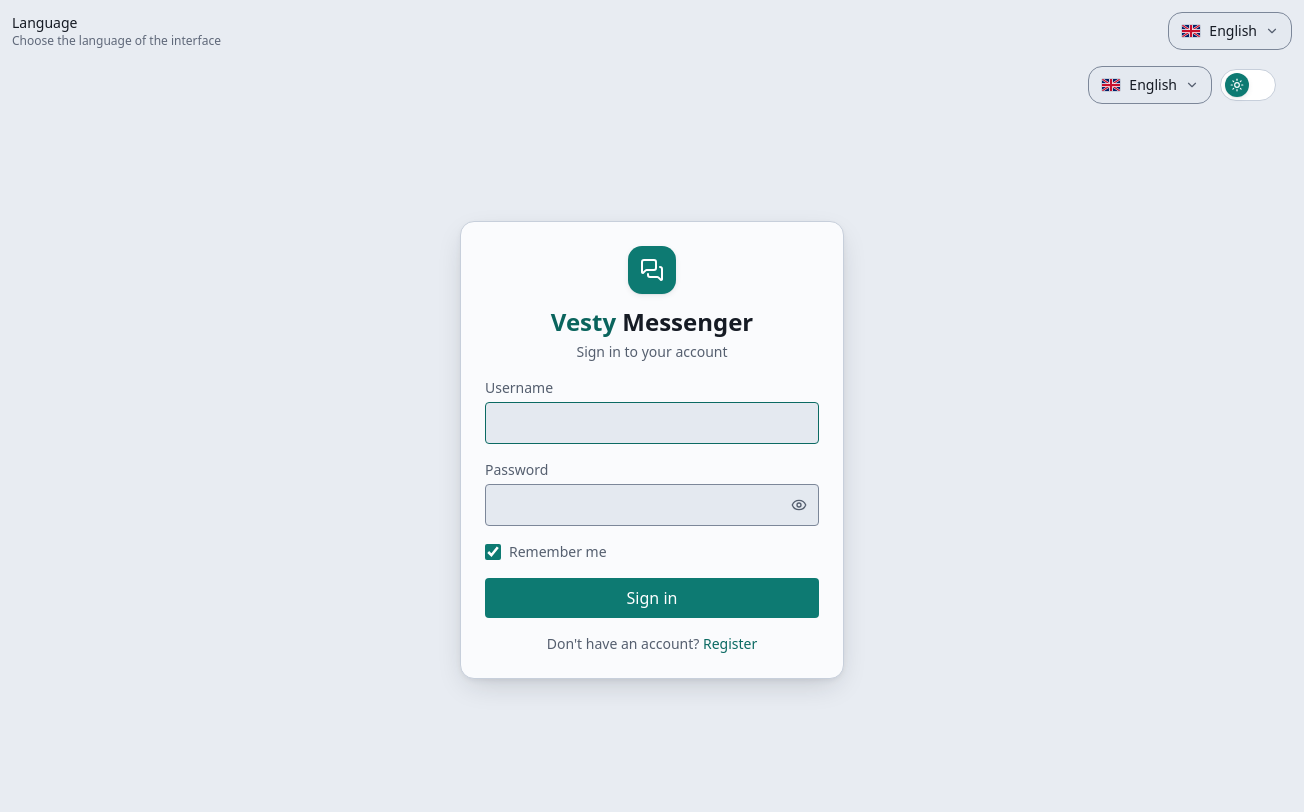
Test: LanguagePicker › switches the interface to Polish
Step 1. Click the button "English" in the row of "Choose the language of the interface" → click(1230, 31), box [1168,12,1292,50]
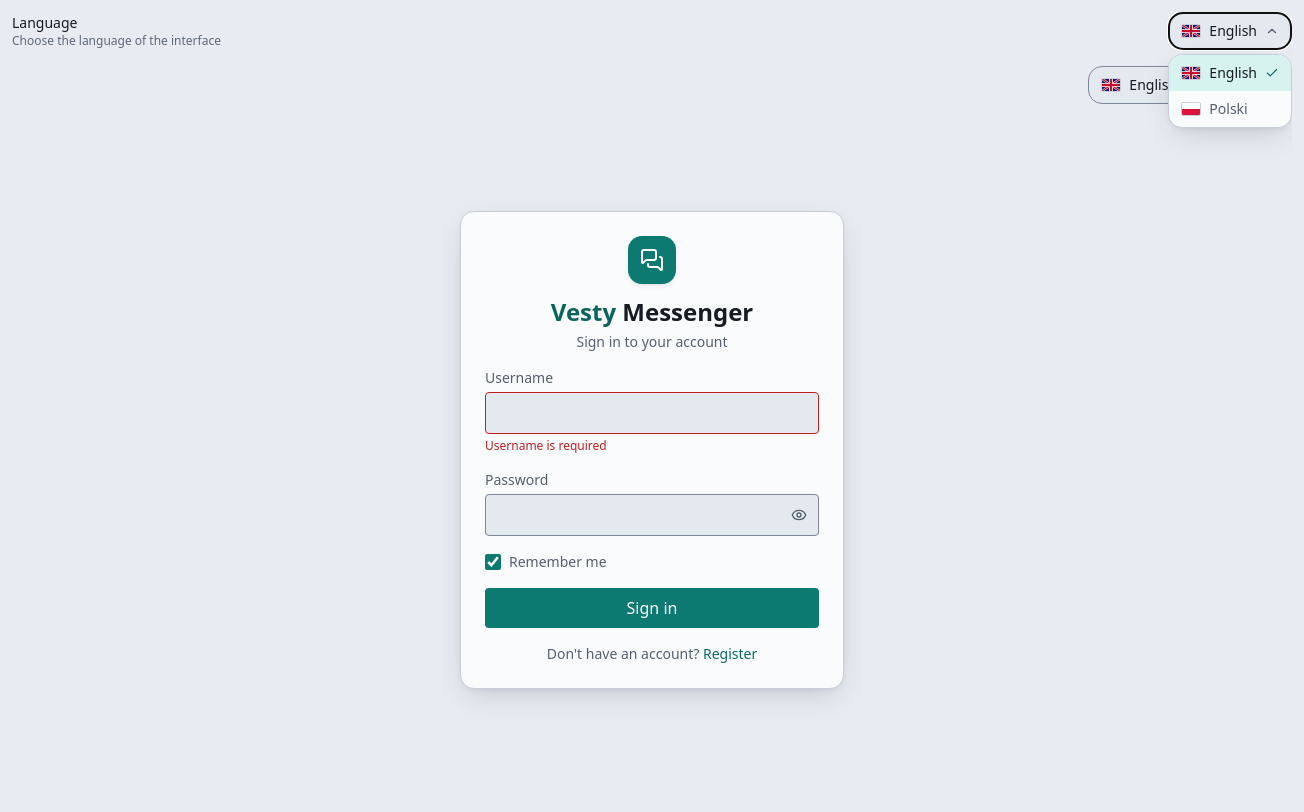
Step 2. Click the option "Polski" → click(1230, 109), box [1169,91,1291,127]
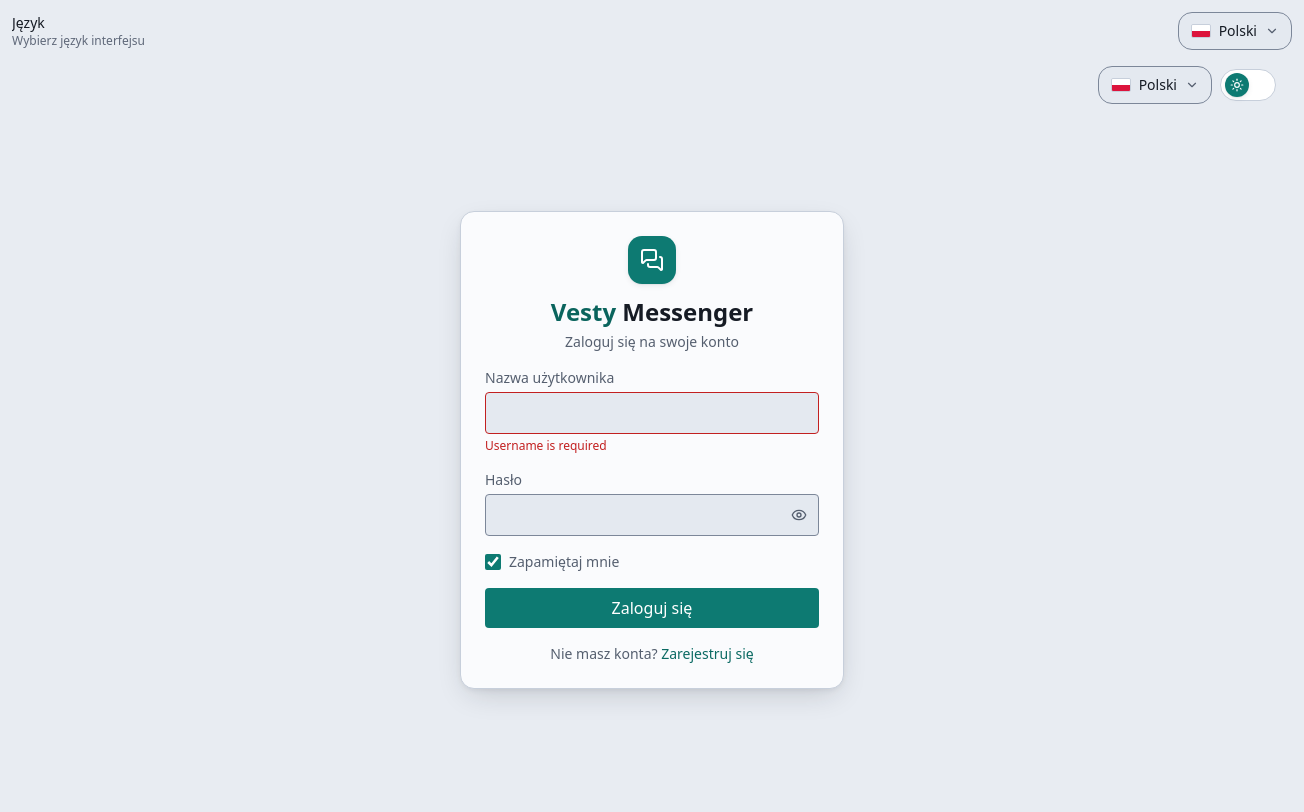
expect the text "Zaloguj się na swoje konto" is shown: met, box [565,332,739,351]
expect the text "Sign in to your account" is gone: met
